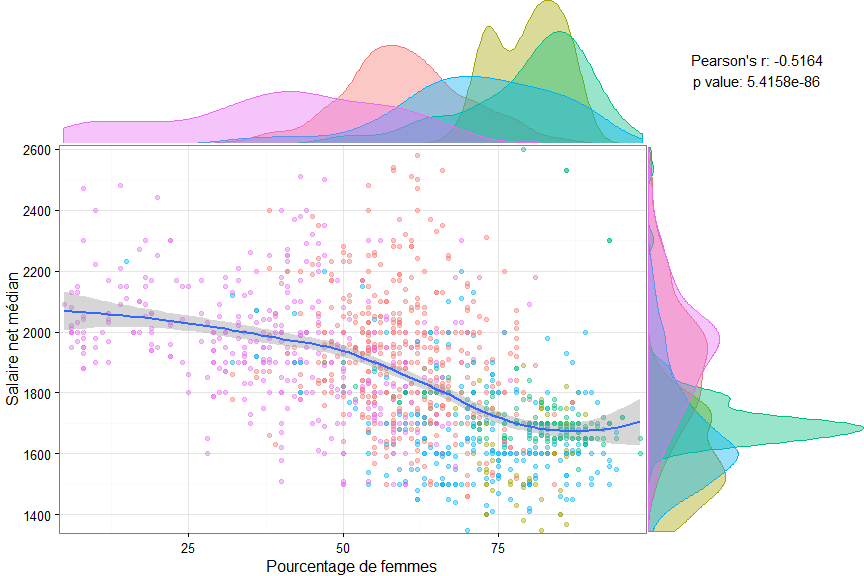

The dashboard page shown, as its layout file describes it:
{"tool":"tableau","page":{"name":"Nuage de points et densité marginale","canvas":[1000,1000],"units":"permille","ordinal":0},"visuals":[{"type":"worksheet","title":"Densité X","mark":"Automatic","box":[0,0,762.9,277.8]},{"type":"blank","box":[762.9,0,157.5,277.8]},{"type":"parameter","param":"[Parameters].[Paramètre 1]","box":[920.3,0,79.7,57]},{"type":"parameter","param":"[Parameters].[Abscisse (copie)]","box":[920.3,57,79.7,53]},{"type":"parameter","param":"[Parameters].[Paramètre 4]","box":[920.3,110,79.7,53]},{"type":"parameter","param":"[Parameters].[Paramètre 2]","box":[920.3,162.9,79.7,53]},{"type":"filter","title":"Nuage de points","param":"[textscan.033rnfa0qr6jju119agoc1gq4wqi].[none:Calculation_673851157567737861:nk]","box":[920.3,215.9,79.7,50.9]},{"type":"parameter","param":"[Parameters].[Paramètre 3]","box":[920.3,266.8,79.7,49.9]},{"type":"worksheet","title":"Nuage de points","mark":"Circle","rows":["Calculation_673851157565718530"],"cols":["Calculation_673851157565521921"],"box":[0,277.8,762.9,722.2]},{"type":"worksheet","title":"Densité Y","mark":"Line","rows":["DensX X (copie)"],"cols":["DensX line (copie)","DensX poly (copie)"],"box":[762.9,277.8,157.5,722.2]},{"type":"legend","title":"Densité X","param":"[textscan.033rnfa0qr6jju119agoc1gq4wqi].[none:Calculation_673851157571534857:nk]","box":[920.3,316.7,79.7,126.3]}]}

Visuals, with their boxes on the dashboard's canvas, which has no fixed pixel size, in thousandths of its width and height (x1, y1, x2, y2). These are canvas units, not pixel positions in the 864x576 screenshot, which may show the page scaled, cropped or inside an application window:
"Densité X" worksheet: detection(0, 0, 763, 278)
blank: detection(763, 0, 920, 278)
parameter: detection(920, 0, 1000, 57)
parameter: detection(920, 57, 1000, 110)
parameter: detection(920, 110, 1000, 163)
parameter: detection(920, 163, 1000, 216)
"Nuage de points" filter: detection(920, 216, 1000, 267)
parameter: detection(920, 267, 1000, 317)
"Nuage de points" worksheet (Circle marks): detection(0, 278, 763, 1000)
"Densité Y" worksheet (Line marks): detection(763, 278, 920, 1000)
"Densité X" legend: detection(920, 317, 1000, 443)
